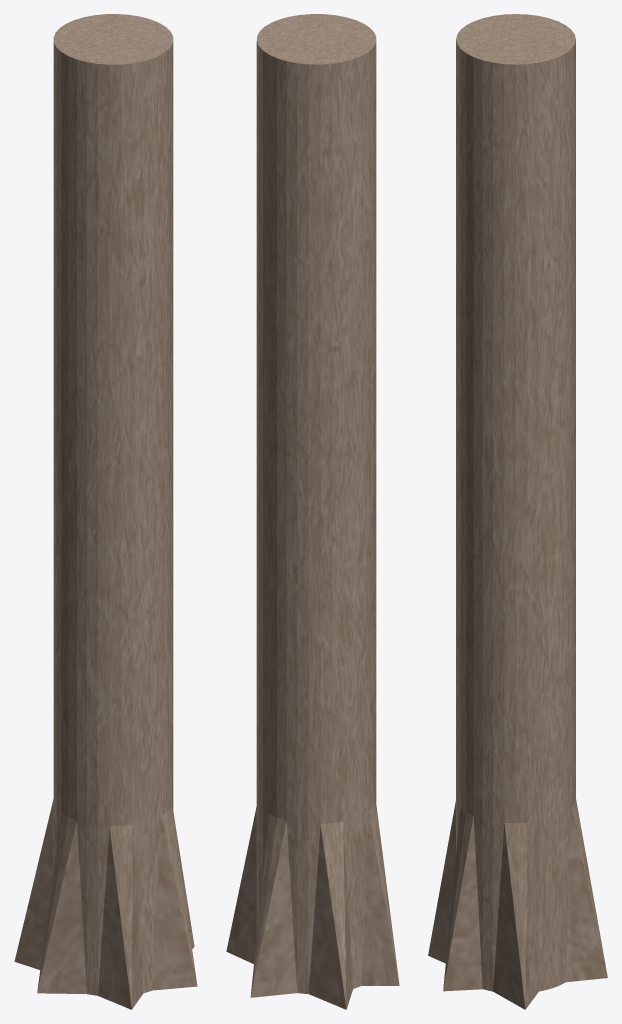
File: wood.obj
The picture shows the model from 3 angles, left to right: view 1: azimuth 30°, elevation 25°; view 2: azimuth 150°, elevation 25°; view 3: azimuth 270°, elevation 25°; orthographic projection.
Parts seen in each view (by area): view 1: 円柱; view 2: 円柱; view 3: 円柱.
Part boxes in pixels (x1=…): 円柱: x1=14, y1=14, x2=197, y2=1009; 円柱: x1=226, y1=14, x2=399, y2=1009; 円柱: x1=428, y1=14, x2=607, y2=1009.
Size of the model in its own units: 3.18 by 17.11 by 3.
Materials: 1 (1 with a texture image).
